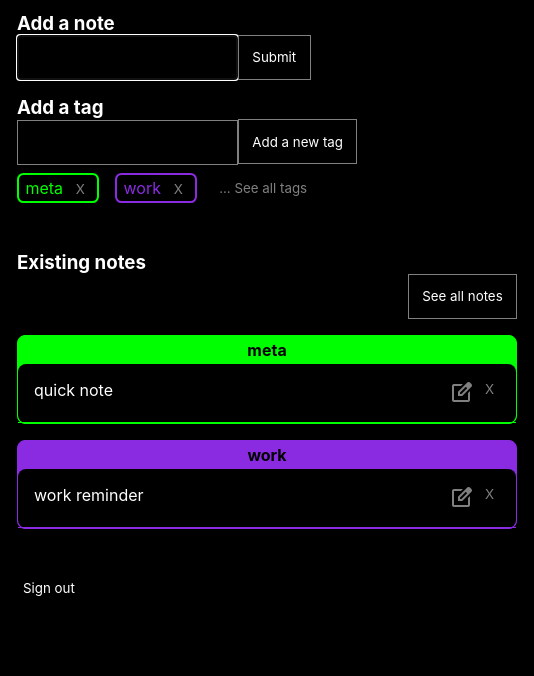
Test: App › happy notes! › moves a tag to the beginning of the list when it is added to a note
Expected: the text "quick note" is shown, [34,380,113,406]
Type "another note" into the field labelled "Add a note" at (128, 58), box [17,35,238,80]
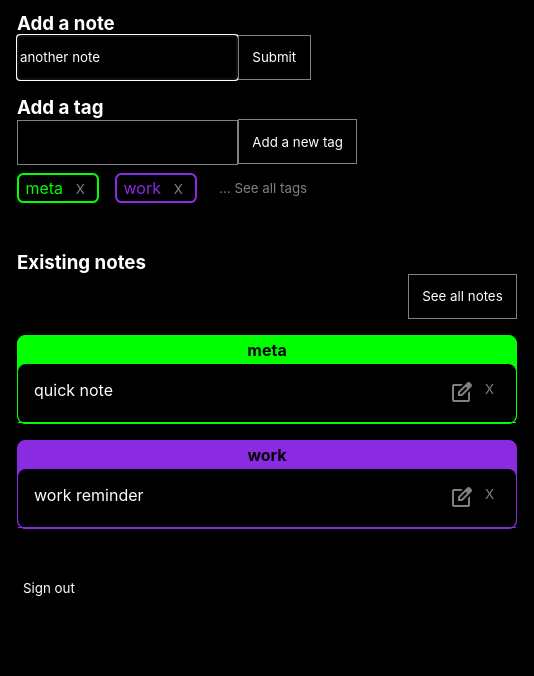
Expected: the form named "new-tag-form" reads "Add a tag Add a new tag meta X work X ... See all tags", [17,96,357,203]
Click on the second tag to add it to the note
Click the text "work" below "Add a tag" at (142, 188), box [124,178,161,198]
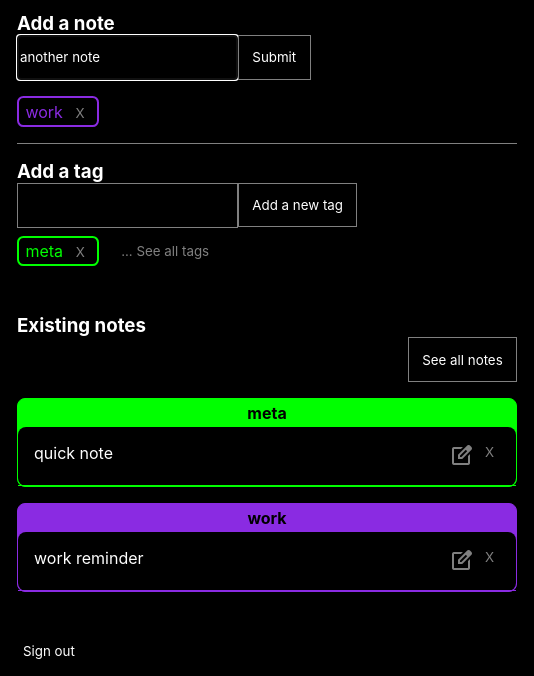
Click the button "Submit" at (274, 57), box [238,35,310,80]
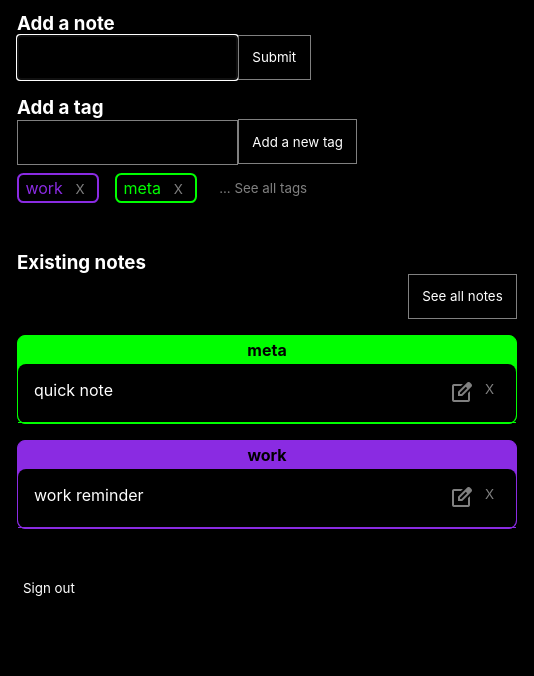
Expected: the form named "new-tag-form" reads "Add a tag Add a new tag work X meta X ... See all tags", [17,96,357,203]
